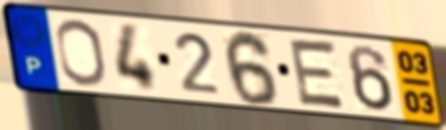2: (172, 30, 223, 97)
4: (111, 21, 162, 95)
6: (221, 27, 282, 108), (344, 43, 395, 113)
E: (286, 36, 349, 111)
O: (53, 17, 110, 89)
